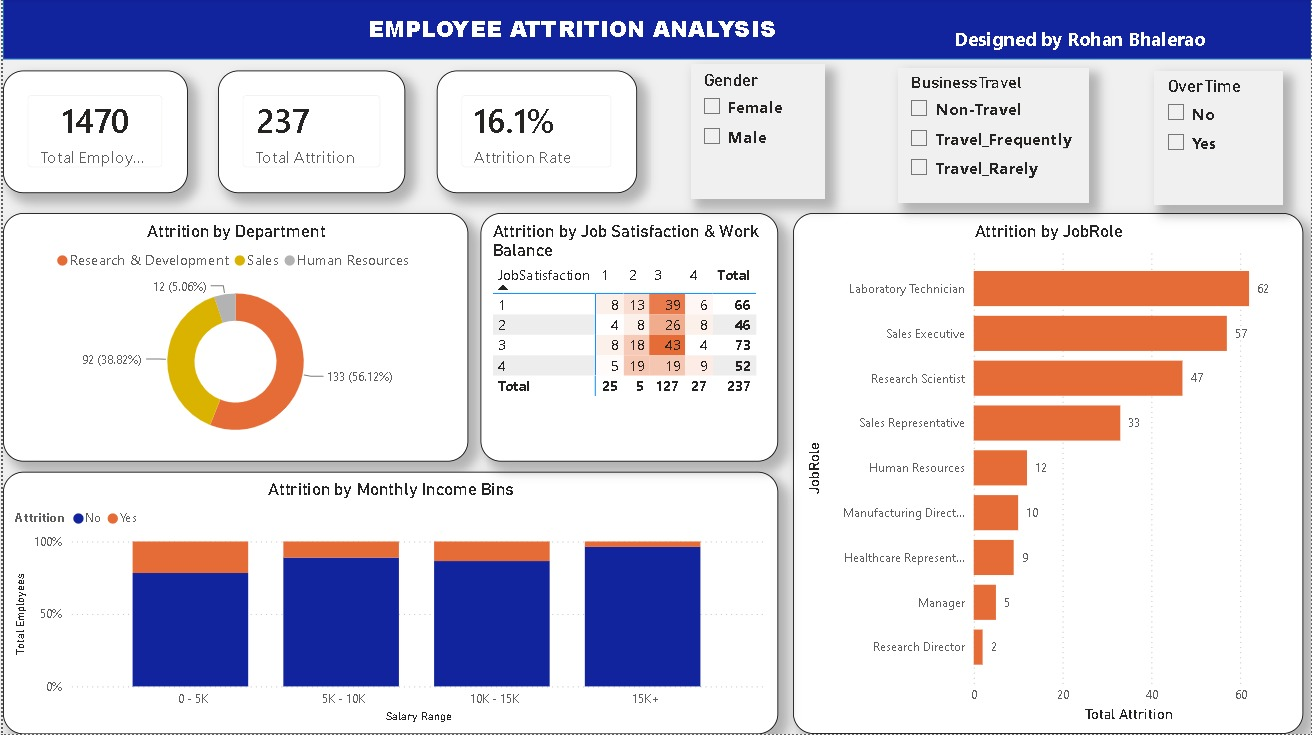

The page's visual inventory and layout, read from the dashboard file:
{"tool":"powerbi","page":{"name":"Page 1","canvas":[1280,720],"ordinal":0},"visuals":[{"type":"cardVisual","fields":{"Data":["data.Total Employees"]},"box":[0,70.9,181,119.8],"z":0},{"type":"cardVisual","fields":{"Data":["data.Total Attrition"]},"box":[210.3,70.9,183.4,119.8],"z":1000},{"type":"cardVisual","fields":{"Data":["data.Attrition Rate"]},"box":[424.3,70.9,195.7,119.8],"z":2000},{"type":"shape","box":[0,0,1280.3,59.9],"z":3000},{"type":"textbox","box":[352.2,9.8,431.7,50.1],"z":4000},{"type":"donutChart","title":"Attrition by Department","fields":{"Y":["data.Total Attrition"],"Category":["data.Department"]},"box":[0,210.3,454.9,243.3],"z":5000},{"type":"barChart","title":"Attrition by JobRole","fields":{"Category":["data.JobRole"],"Y":["data.Total Attrition"]},"box":[772.8,210.3,498.9,509.9],"z":6000},{"type":"hundredPercentStackedColumnChart","title":"Attrition  by Monthly Income Bins","fields":{"Series":["data.Attrition"],"Y":["data.Total Employees"],"Category":["data.Salary Range"]},"box":[0,463.5,758.2,256.8],"z":7000},{"type":"pivotTable","title":"Attrition by Job Satisfaction & Work Balance","fields":{"Values":["data.Total Attrition"],"Rows":["data.JobSatisfaction"],"Columns":["data.WorkLifeBalance"]},"box":[467.1,210.3,291,243.3],"z":8000},{"type":"slicer","fields":{"Values":["data.Gender"]},"box":[672.6,64.8,132.1,132.1],"z":9000},{"type":"slicer","fields":{"Values":["data.BusinessTravel"]},"box":[875.5,68.5,187.1,132.1],"z":10000},{"type":"slicer","fields":{"Values":["data.OverTime"]},"box":[1126.2,70.9,126,132.1],"z":11000},{"type":"textbox","box":[925.7,22,275.1,42.8],"z":12000}]}

Visuals, with their boxes in screenshot pixels (x1, y1, x2, y2), scaled from the page's 1280x720 canvas onto the 1312x735 screenshot:
cardVisual - data.Total Employees: x1=0, y1=72, x2=186, y2=195
cardVisual - data.Total Attrition: x1=216, y1=72, x2=404, y2=195
cardVisual - data.Attrition Rate: x1=435, y1=72, x2=636, y2=195
shape: x1=0, y1=0, x2=1311, y2=61
textbox: x1=361, y1=10, x2=803, y2=61
"Attrition by Department" donutChart: x1=0, y1=215, x2=466, y2=463
"Attrition by JobRole" barChart: x1=792, y1=215, x2=1303, y2=734
"Attrition  by Monthly Income Bins" hundredPercentStackedColumnChart: x1=0, y1=473, x2=777, y2=734
"Attrition by Job Satisfaction & Work Balance" pivotTable: x1=479, y1=215, x2=777, y2=463
slicer - data.Gender: x1=689, y1=66, x2=825, y2=201
slicer - data.BusinessTravel: x1=897, y1=70, x2=1089, y2=205
slicer - data.OverTime: x1=1154, y1=72, x2=1284, y2=207
textbox: x1=949, y1=22, x2=1231, y2=66
